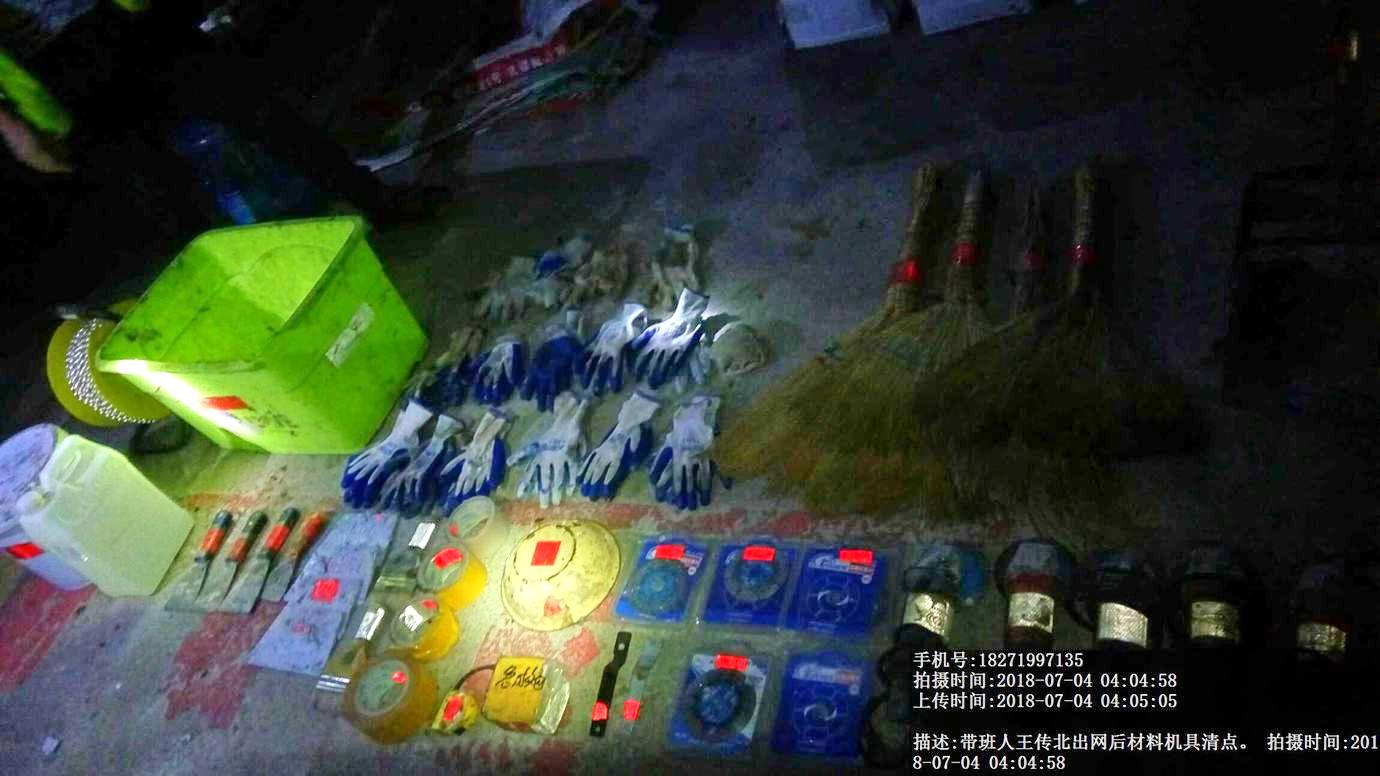SB: (719, 169, 996, 505)
T: (101, 219, 436, 472)
